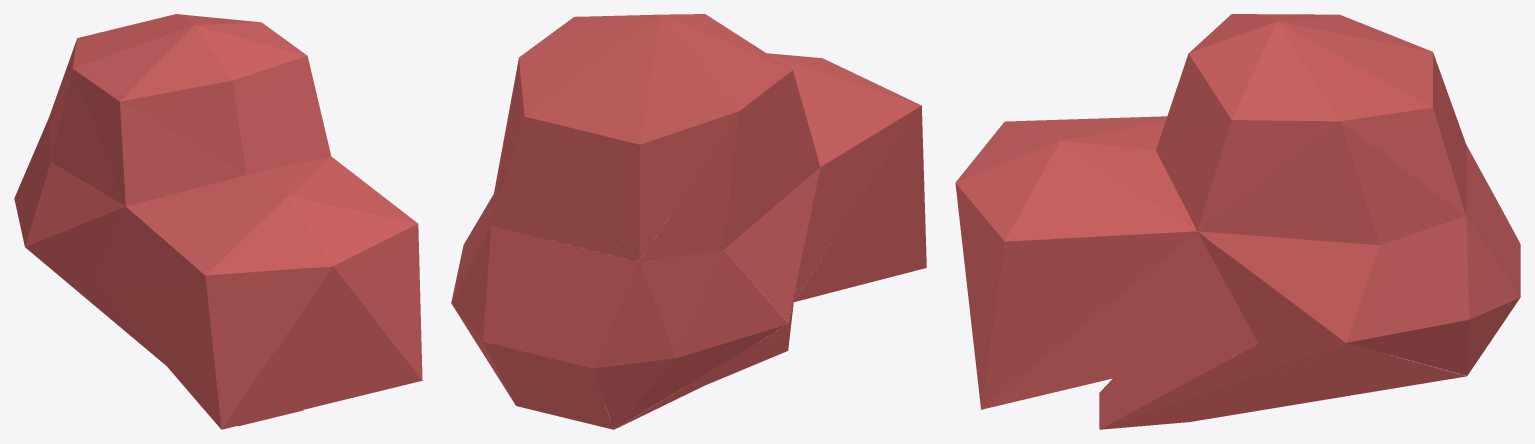
The model's file is dossy_head.glb.
3 renders of one model, left to right at view 1: azimuth 30°, elevation 25°; view 2: azimuth 150°, elevation 25°; view 3: azimuth 270°, elevation 25°, orthographic. The views are drawn at different scales.
Visible parts, largest first — view 1: dossy_head_col; view 2: dossy_head_col; view 3: dossy_head_col.
Boxes of the visible parts, x1,y1,x2,y2 form: dossy_head_col: (14, 14, 422, 429); dossy_head_col: (451, 14, 926, 429); dossy_head_col: (955, 14, 1520, 429).
Bounding box in the file's own units: 0.281 × 0.3333 × 0.4264.
